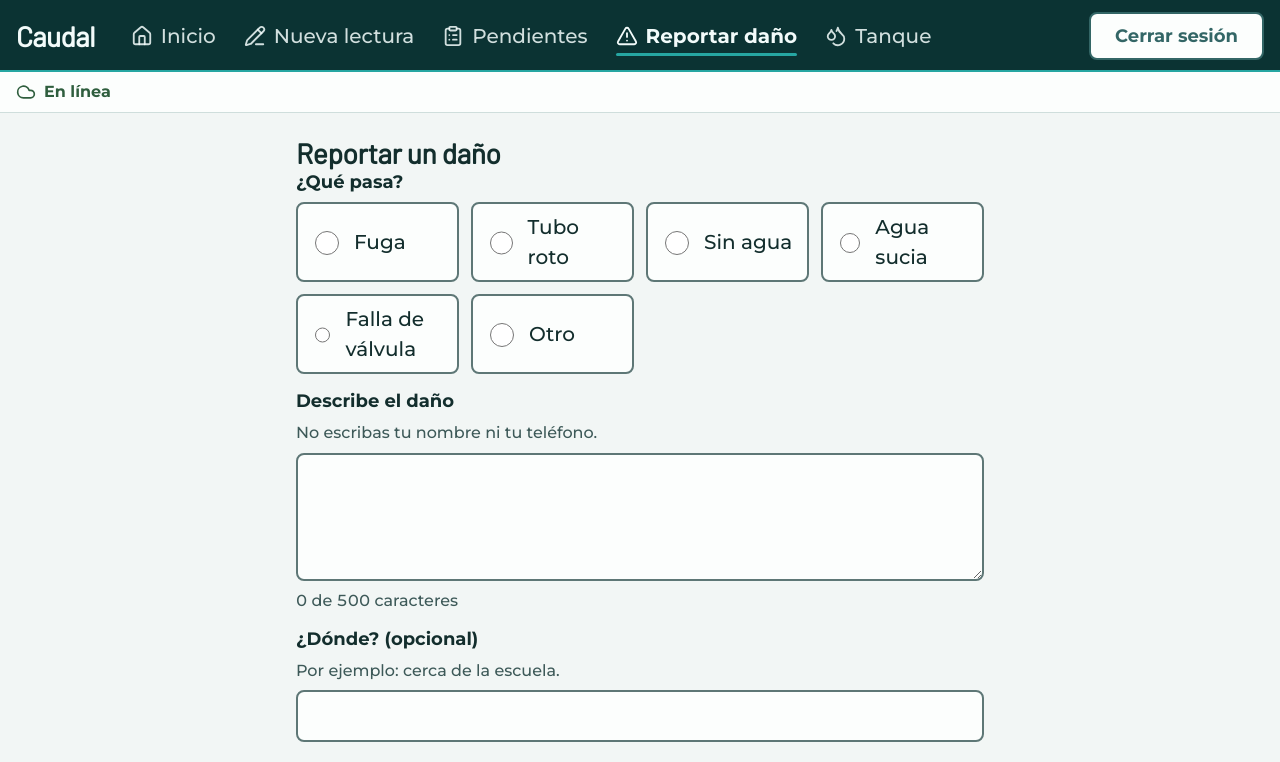
it: OperatorDamagePage (S11) › shows the server message when the request is refused
The image size is (1280, 762).
Click the radio button labelled "Fuga".
click(327, 244)  # box top-left (315, 232), bottom-right (339, 256)
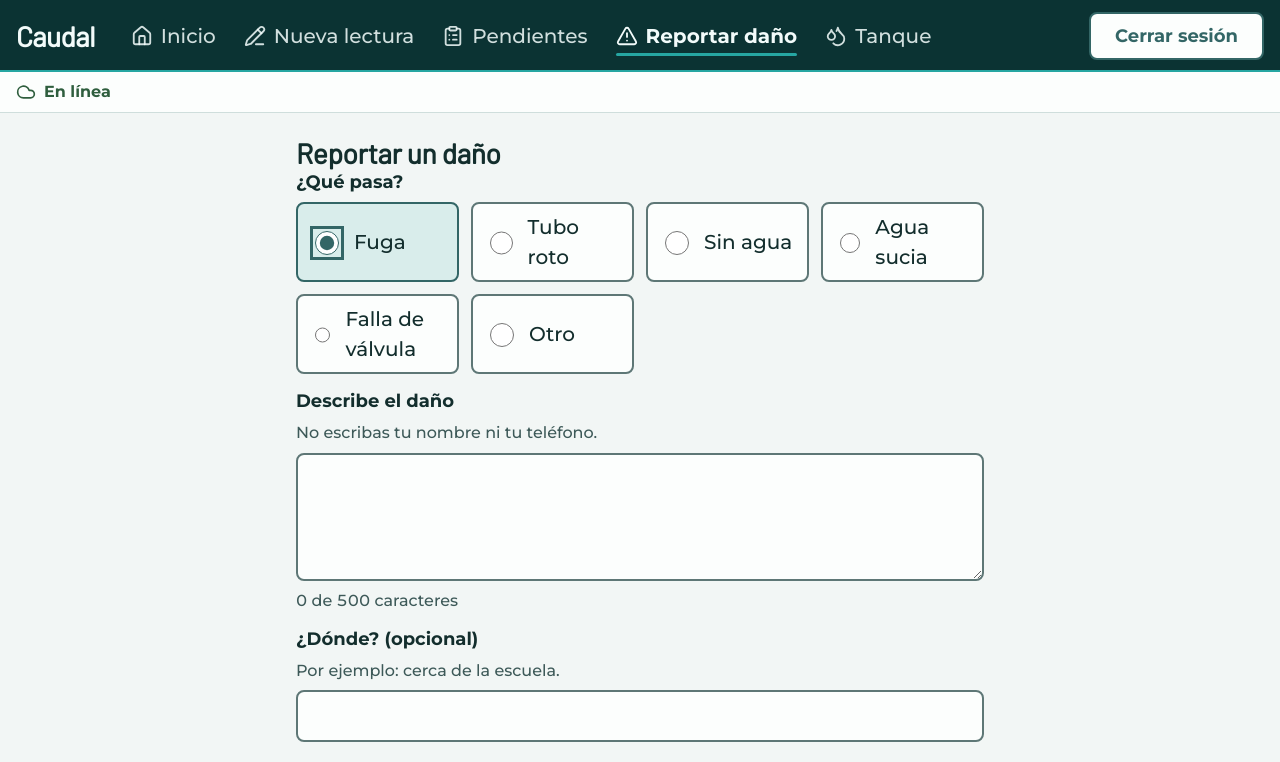
Type "Gotea el tubo junto a la escuela." into the text box labelled "Describe el daño".
click(640, 517); type("Gotea el tubo junto a la escuela.")  # box top-left (296, 453), bottom-right (984, 581)
(page scrolled)
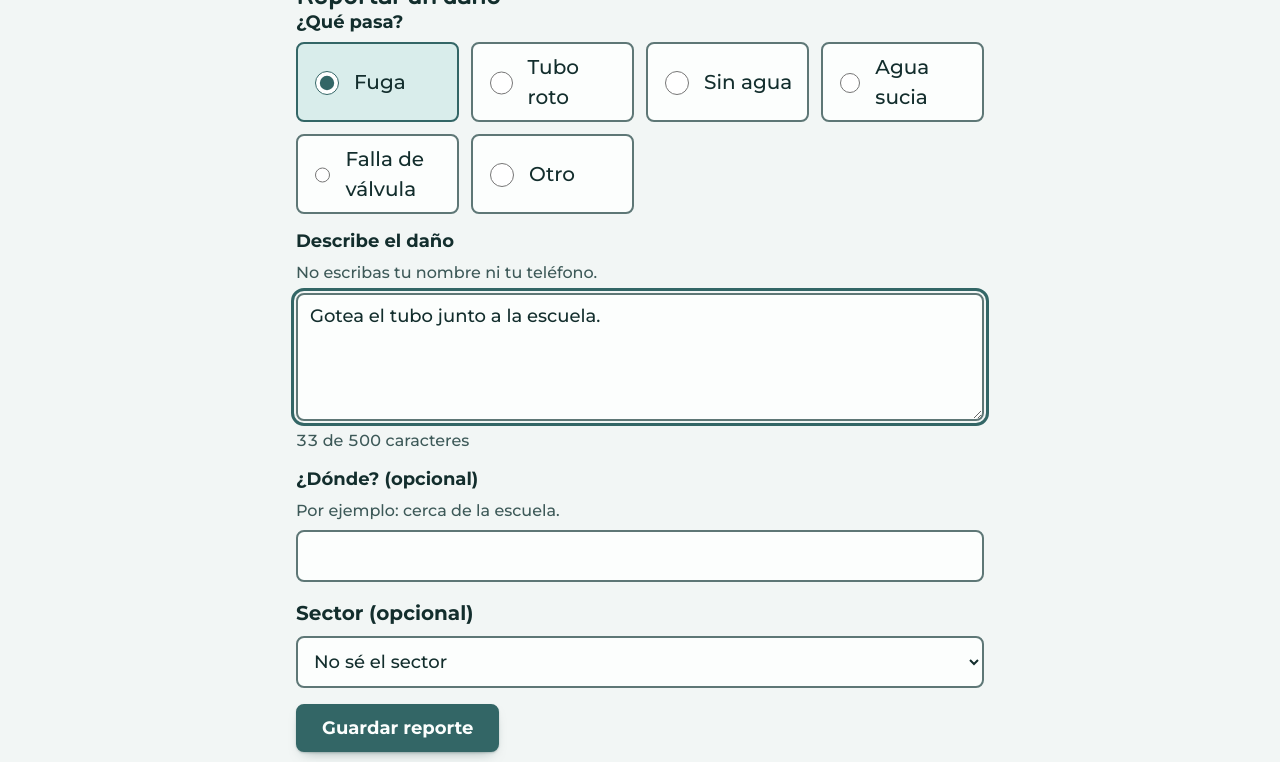
Click the button "Guardar reporte".
click(398, 728)  # box top-left (296, 704), bottom-right (499, 752)
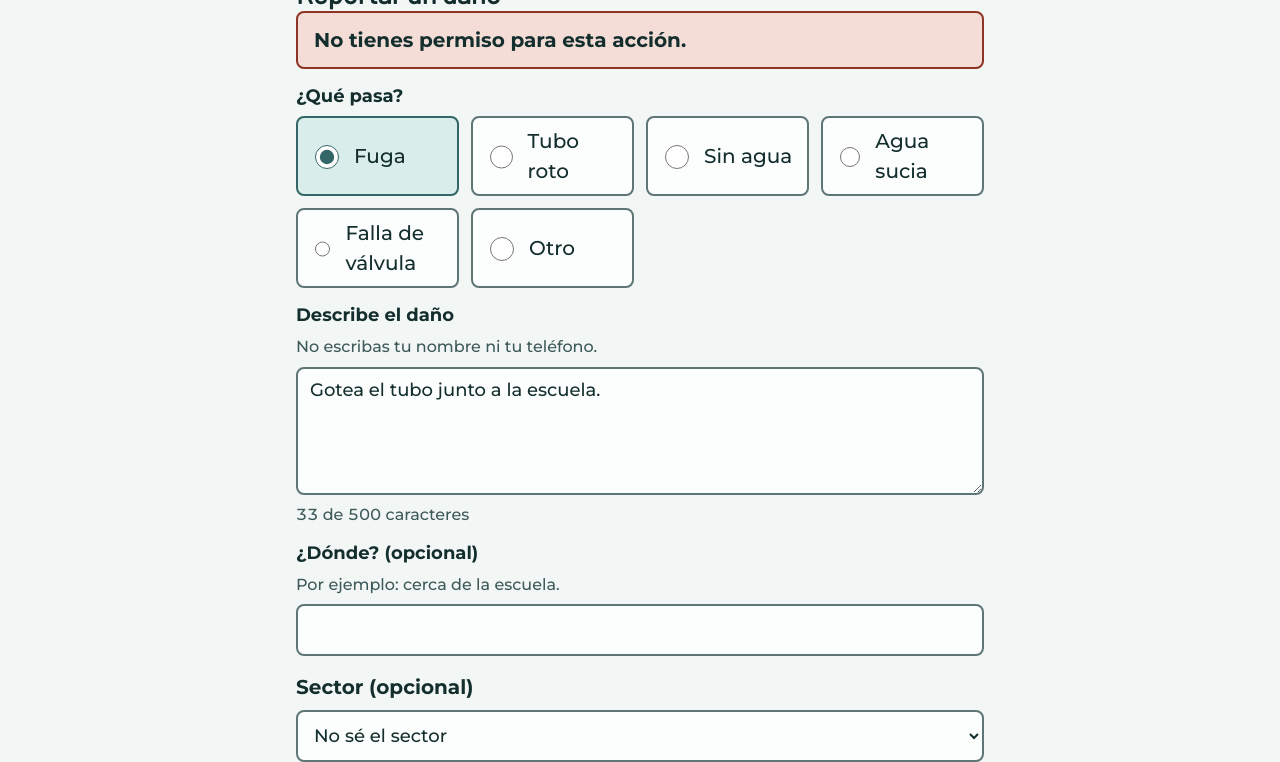
Expected: the message "No tienes permiso para esta acción." is shown, top-left (296, 11), bottom-right (984, 69)
